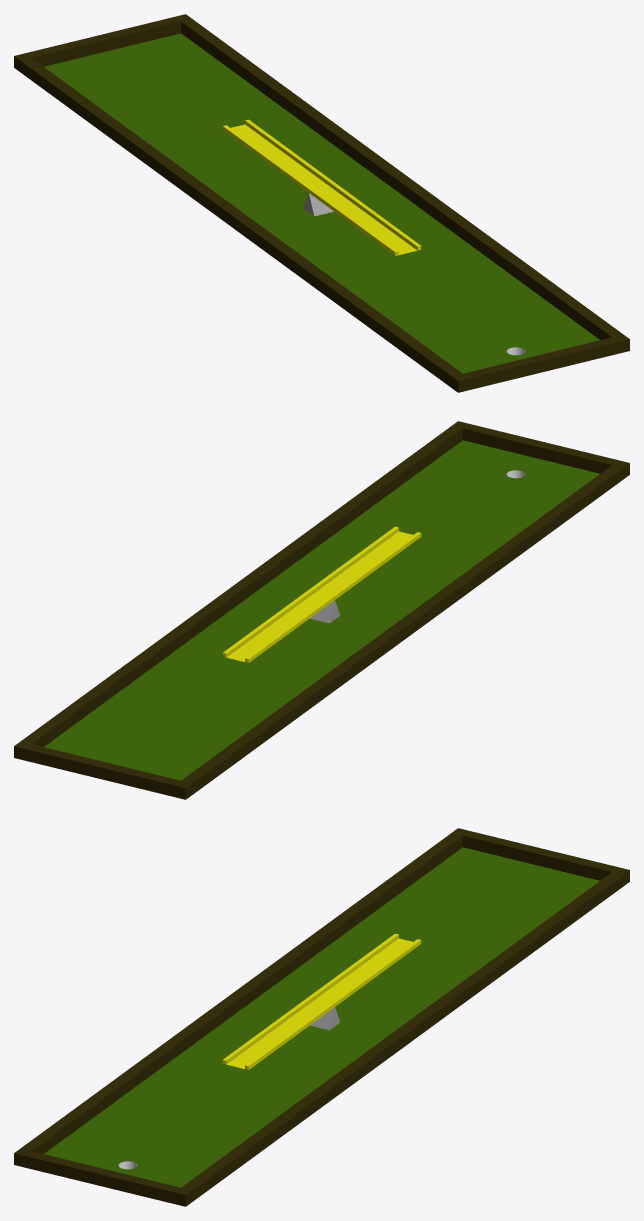
Rendered from hole5.fbx.
3 views of the same model, one above another, from view 1: azimuth 30°, elevation 25°; view 2: azimuth 150°, elevation 25°; view 3: azimuth 330°, elevation 25° (orthographic).
Parts seen in each view (by area): view 1: green5, wall5, seesaw, polySurface1, polySurface2, polySurface4; view 2: green5, wall5, seesaw, polySurface1, polySurface2, polySurface4; view 3: green5, wall5, seesaw, polySurface1, polySurface2, polySurface4.
Part boxes in pixels (bbox=[...]): green5: bbox=[44, 33, 599, 373]; wall5: bbox=[14, 14, 629, 392]; seesaw: bbox=[231, 124, 416, 254]; polySurface1: bbox=[245, 119, 421, 250]; polySurface2: bbox=[222, 125, 398, 255]; polySurface4: bbox=[233, 127, 414, 254]; green5: bbox=[44, 440, 599, 780]; wall5: bbox=[14, 421, 629, 799]; seesaw: bbox=[227, 531, 412, 661]; polySurface1: bbox=[222, 526, 398, 657]; polySurface2: bbox=[245, 532, 421, 662]; polySurface4: bbox=[230, 532, 411, 660]; green5: bbox=[44, 847, 599, 1187]; wall5: bbox=[14, 828, 629, 1206]; seesaw: bbox=[227, 938, 412, 1068]; polySurface1: bbox=[245, 939, 421, 1069]; polySurface2: bbox=[222, 933, 398, 1064]; polySurface4: bbox=[229, 940, 410, 1067].
Bounding box in the file's own units: 23 × 5 × 103.
